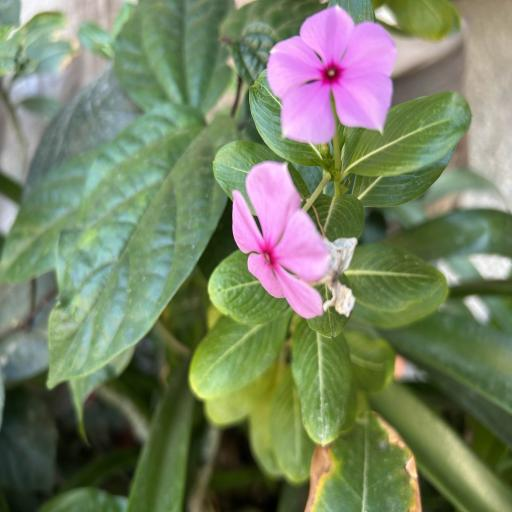Periwinkle: (263, 2, 403, 150), (227, 157, 331, 323)
